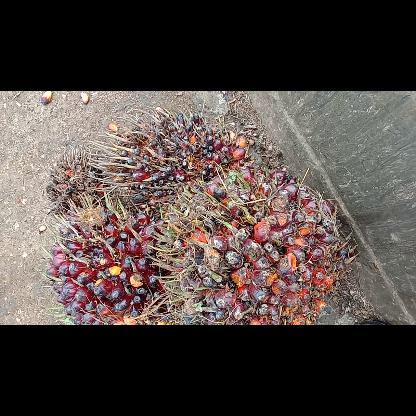TBS abnormal: (86, 105, 252, 219), (45, 143, 115, 217)
TBS masak: (150, 164, 350, 324), (42, 191, 174, 324)
